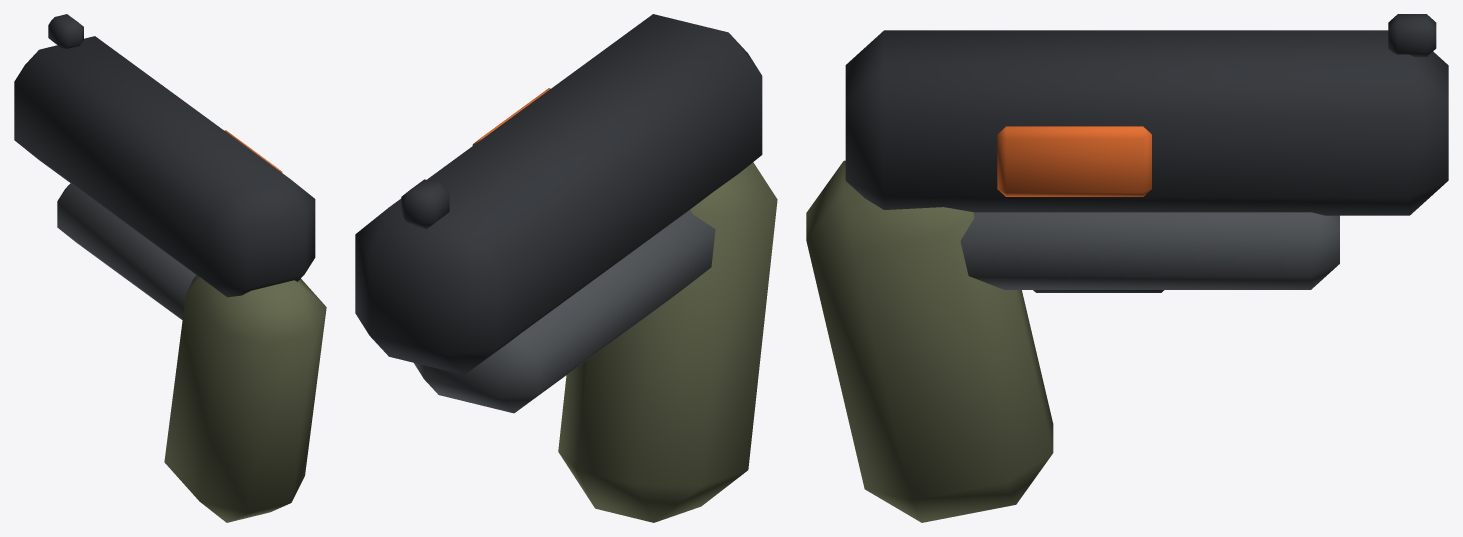
The model's file is weapon_pistol.glb.
The picture shows the model from 3 angles, left to right: view 1: azimuth 30°, elevation 25°; view 2: azimuth 150°, elevation 25°; view 3: azimuth 270°, elevation 25°; orthographic projection. The views are drawn at different scales.
Visible parts, largest first — view 1: weapon_pistol; view 2: weapon_pistol; view 3: weapon_pistol.
Boxes of the visible parts, bbox=[...] form: weapon_pistol: bbox=[14, 14, 326, 522]; weapon_pistol: bbox=[355, 14, 777, 522]; weapon_pistol: bbox=[806, 14, 1448, 522].
Bounding box in the file's own units: 0.0475 × 0.1403 × 0.1664.
1 material, 1 textured.
